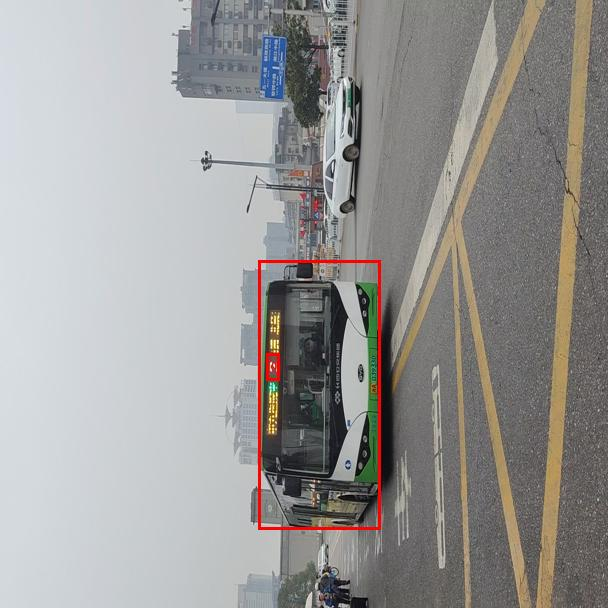bus: (258, 260, 380, 529)
screen: (266, 353, 279, 380)
